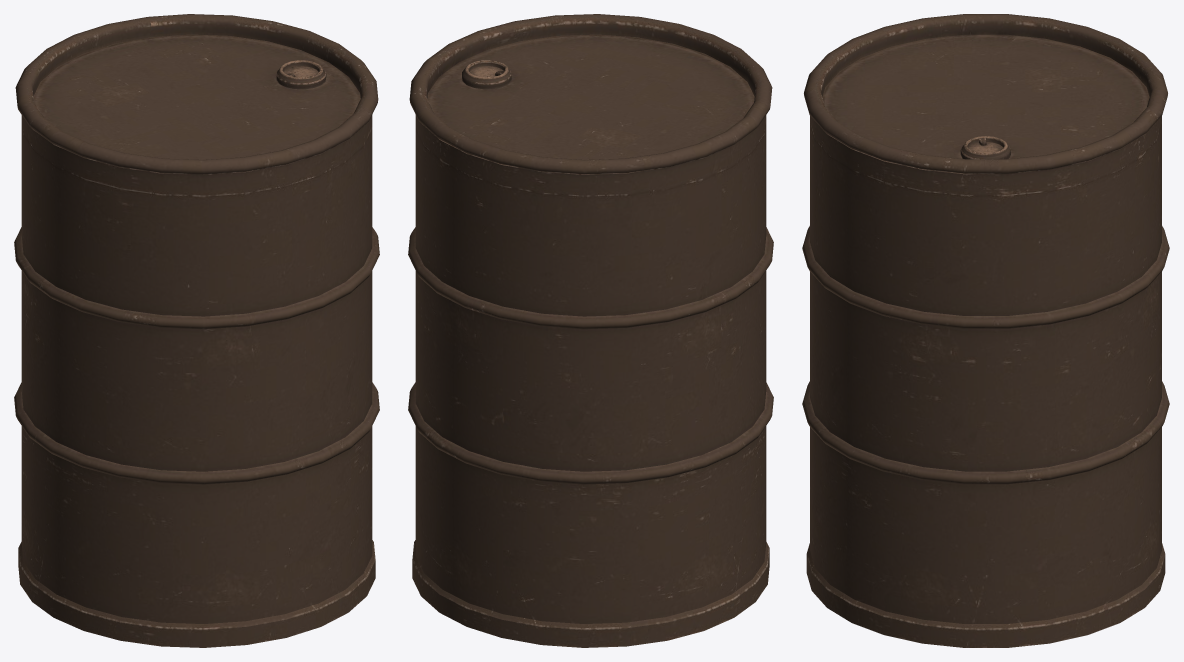
File: ph_barrel_c.gltf
The picture shows the model from 3 angles, left to right: view 1: azimuth 30°, elevation 25°; view 2: azimuth 150°, elevation 25°; view 3: azimuth 270°, elevation 25°; orthographic projection.
Parts seen in each view (by area): view 1: ph_barrel_c; view 2: ph_barrel_c; view 3: ph_barrel_c.
Part boxes in pixels (x1,y1,x2,y2): ph_barrel_c: [14, 14, 379, 647]; ph_barrel_c: [408, 14, 773, 647]; ph_barrel_c: [802, 14, 1169, 647].
Bounding box in the file's own units: 0.6339 × 0.9305 × 0.6386.
Materials: 1 (1 with a texture image).
